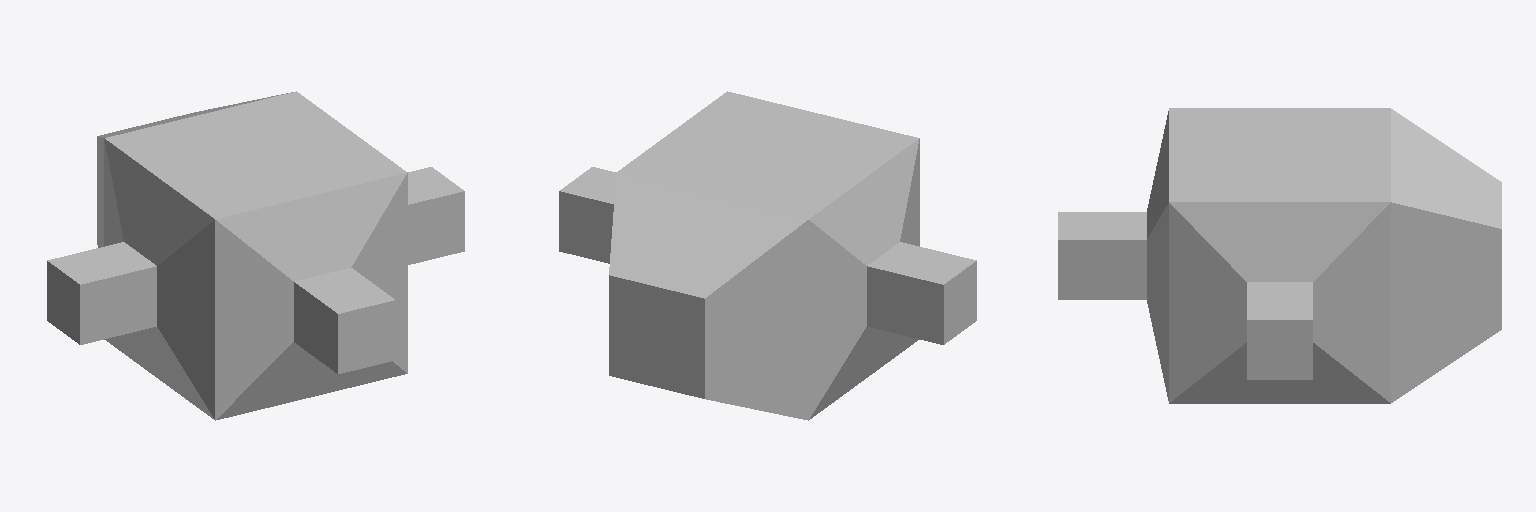
File: cockpit.obj
3 views of the same model, side by side, from view 1: azimuth 30°, elevation 25°; view 2: azimuth 150°, elevation 25°; view 3: azimuth 270°, elevation 25° (orthographic).
Parts seen in each view (by area): view 1: cockpit.obj; view 2: cockpit.obj; view 3: cockpit.obj.
Boxes of the visible parts, box(x1,y1,x2,y2) form: cockpit.obj: box(47, 91, 464, 420); cockpit.obj: box(559, 91, 976, 420); cockpit.obj: box(1058, 108, 1501, 403).
Bounding box in the file's own units: 2 × 1 × 2.